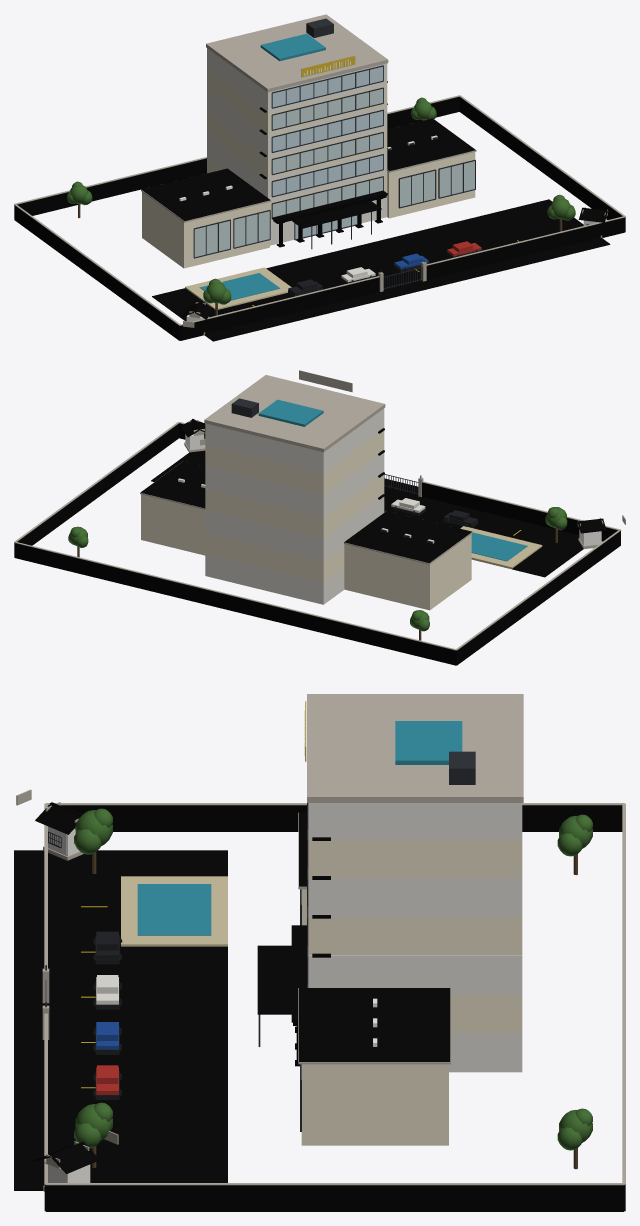
The model's file is hotel.glb.
The picture shows the model from 3 angles, top to bottom: view 1: azimuth 30°, elevation 25°; view 2: azimuth 150°, elevation 25°; view 3: azimuth 270°, elevation 25°; orthographic projection. The views are drawn at different scales.
Visible parts, largest first — view 1: glass_sheet (×11), forecourt, tower_crown, wing_L, tower_f3, tower_f4, tower_f5, wing_R, tower_f2, object 124, tower_f6, object 236 (+15 smaller); view 2: object 236, tower_crown, wing_L, forecourt, tower_f3, tower_f4, tower_f5, tower_f2, tower_f6, object 124, tower_f0, tower_f1 (+13 smaller); view 3: forecourt, tower_crown, object 238, wing_R, object 153, tower_f5, tower_f3, tower_f4, tower_f6, object 237, tower_f2, pool_water (+12 smaller).
Boxes of the visible parts, x1,y1,x2,y2 form: glass_sheet (×11): [194, 66, 474, 257]; forecourt: [152, 199, 610, 341]; tower_crown: [206, 14, 388, 92]; wing_L: [142, 192, 269, 268]; tower_f3: [207, 113, 387, 179]; tower_f4: [207, 91, 387, 157]; tower_f5: [207, 69, 387, 135]; wing_R: [387, 152, 475, 218]; tower_f2: [207, 135, 387, 200]; object 124: [141, 168, 270, 220]; tower_f6: [207, 48, 387, 112]; object 236: [17, 97, 459, 215]; object 236: [14, 543, 456, 665]; tower_crown: [204, 375, 385, 452]; wing_L: [344, 534, 471, 610]; forecourt: [151, 450, 583, 577]; tower_f3: [205, 475, 384, 538]; tower_f4: [205, 453, 384, 516]; tower_f5: [205, 431, 384, 494]; tower_f2: [205, 497, 384, 560]; tower_f6: [205, 408, 384, 472]; object 124: [344, 511, 471, 562]; tower_f0: [205, 554, 344, 604]; tower_f1: [205, 532, 344, 582]; forecourt: [14, 850, 227, 1190]; tower_crown: [307, 694, 523, 802]; object 238: [46, 1185, 623, 1211]; wing_R: [301, 1064, 448, 1145]; object 153: [299, 988, 450, 1061]; tower_f5: [308, 839, 522, 878]; tower_f3: [308, 917, 522, 955]; tower_f4: [308, 878, 522, 916]; tower_f6: [308, 803, 522, 839]; object 237: [48, 805, 622, 831]; tower_f2: [308, 955, 522, 994]; pool_water: [137, 884, 211, 935].
Size of the model in its own units: 67.55 by 24.62 by 45.74.
